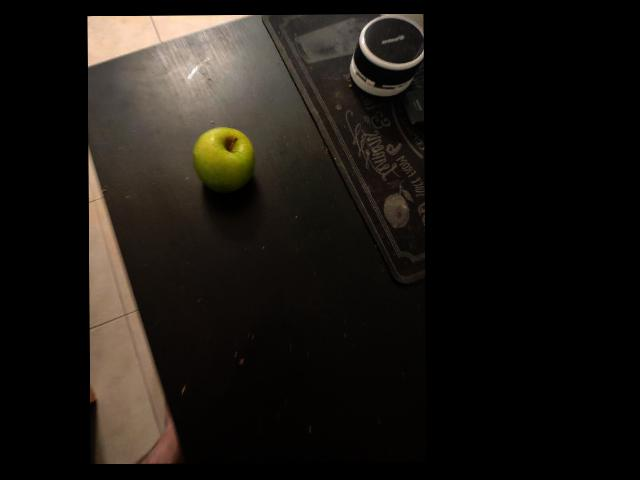apple: (233, 118, 319, 181)
